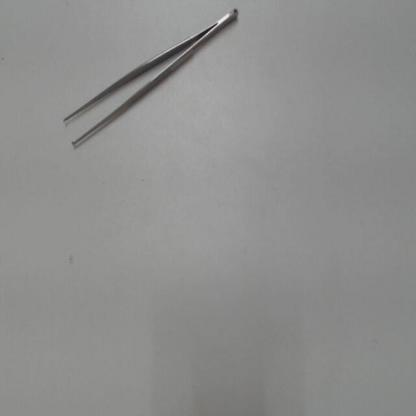Gillies Toothed Dissector: (54, 2, 254, 158)
